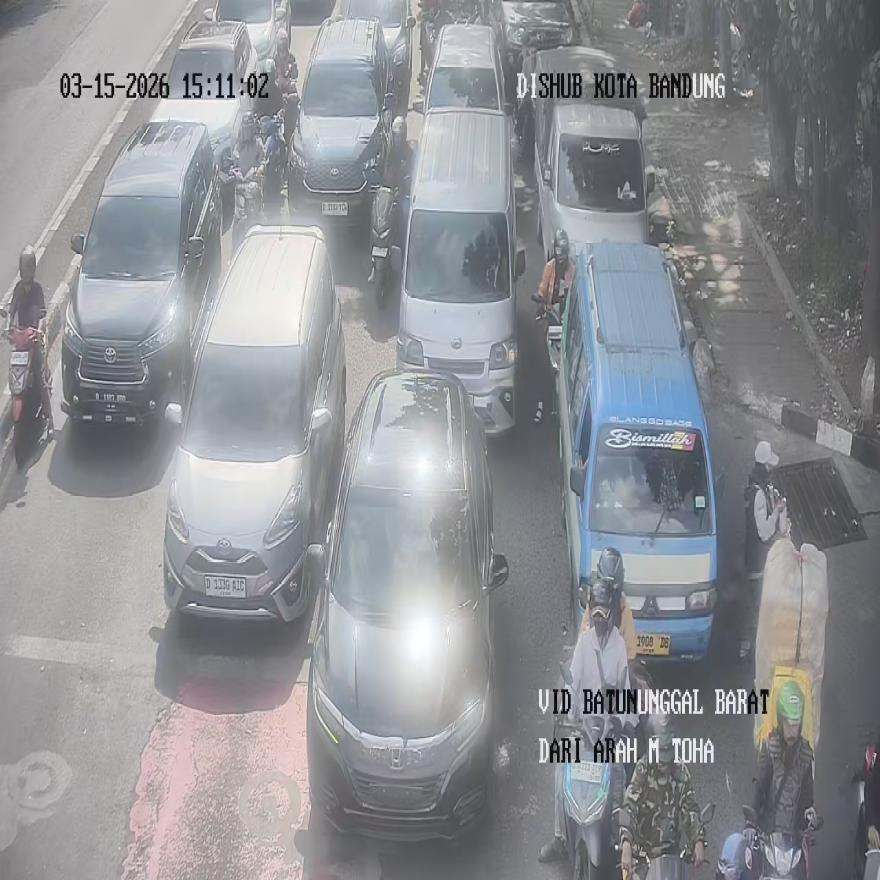Mobil: (744, 441, 786, 582)
Motor: (307, 372, 509, 840), (163, 226, 345, 621), (555, 241, 723, 660), (62, 116, 223, 424), (392, 109, 525, 434), (287, 16, 396, 231), (531, 94, 654, 257), (151, 22, 256, 164), (483, 0, 576, 98), (340, 0, 416, 110), (415, 23, 502, 110), (203, 0, 290, 60)
Truk: (731, 538, 828, 879), (539, 560, 637, 879), (619, 713, 714, 879), (0, 247, 54, 467), (368, 117, 411, 306), (532, 229, 574, 380), (230, 111, 264, 246), (255, 59, 285, 197), (274, 31, 298, 100)
